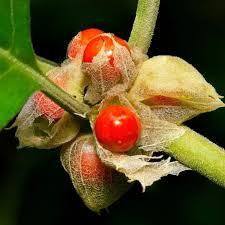healthy_leaf: (5, 3, 220, 225)
